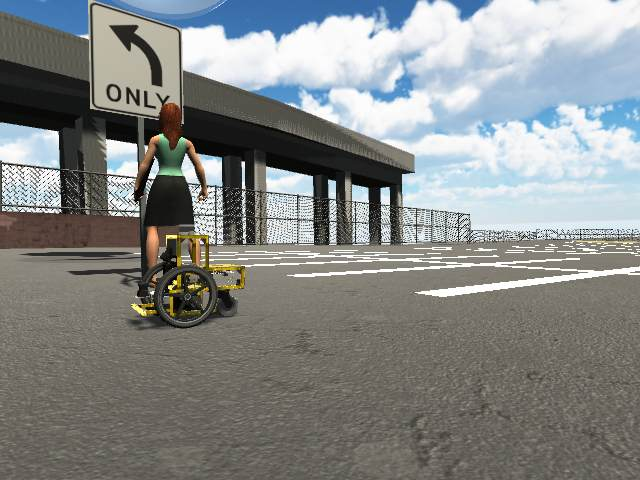arrow_left: (109, 22, 162, 86)
